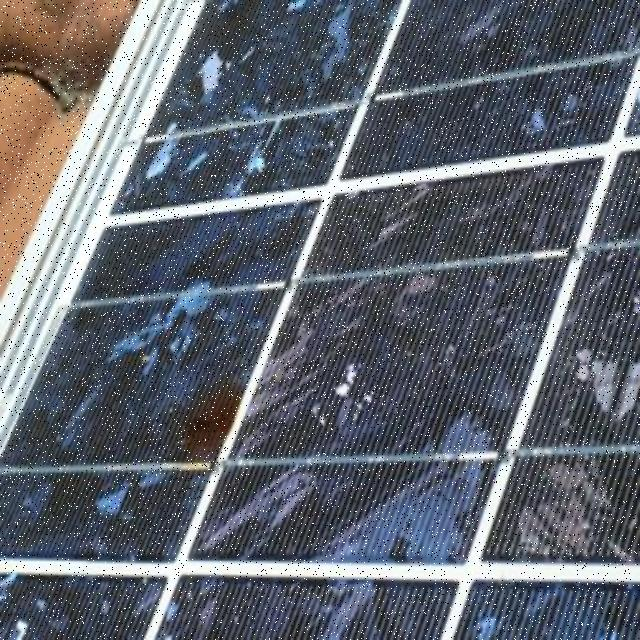electrical damage: (170, 367, 250, 488)
